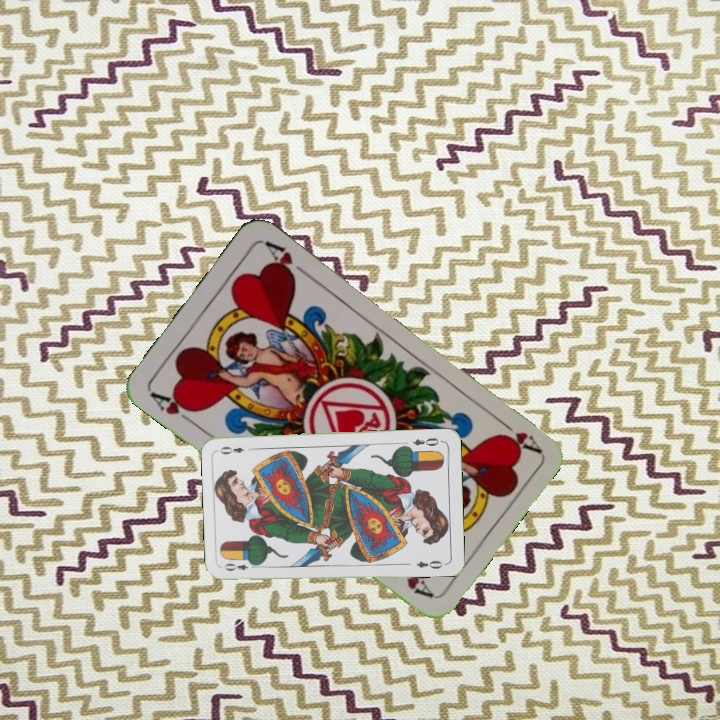EO: (220, 558, 260, 573), (409, 433, 441, 449)
HA: (491, 413, 543, 455), (146, 388, 199, 428)
